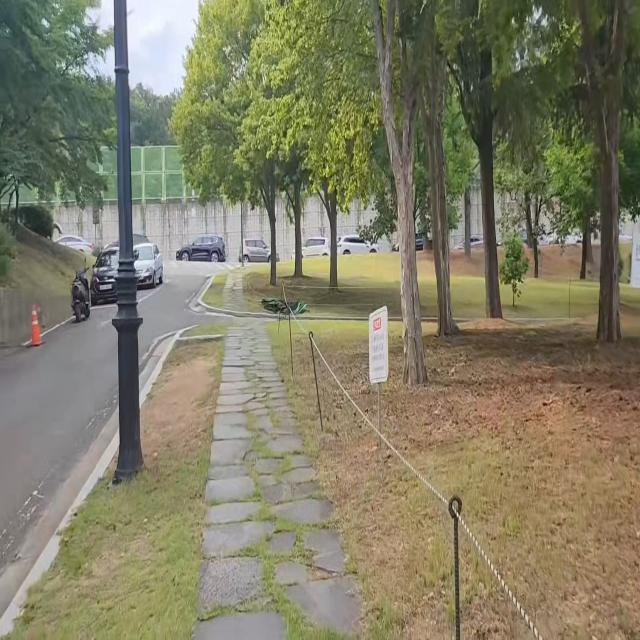obstacle: (107, 0, 152, 480), (91, 234, 172, 305), (63, 259, 97, 329), (23, 293, 48, 350)
road: (0, 262, 217, 640)
sidewalk: (178, 310, 389, 640)
